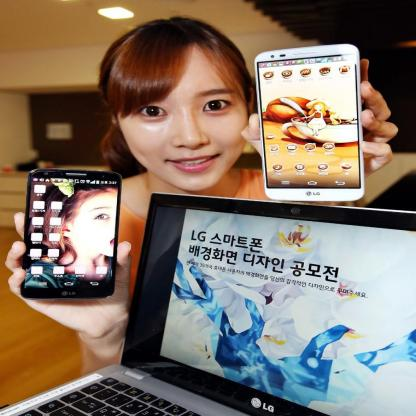board: (0, 194, 416, 416)
